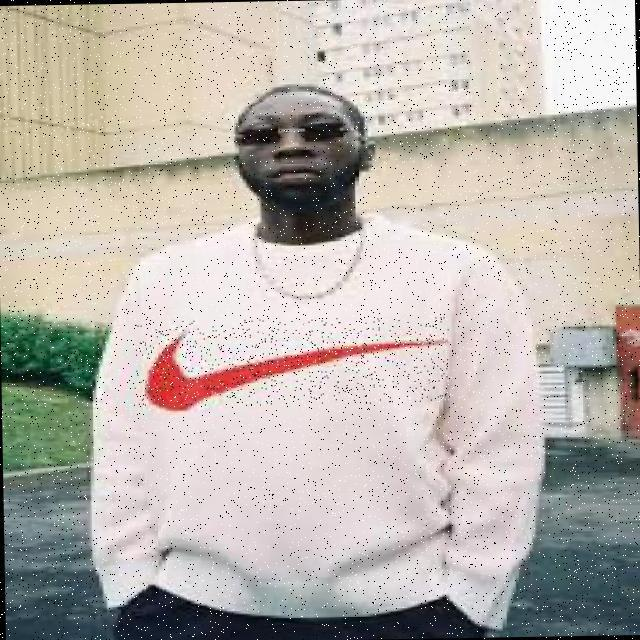Nike: (132, 316, 449, 408)
